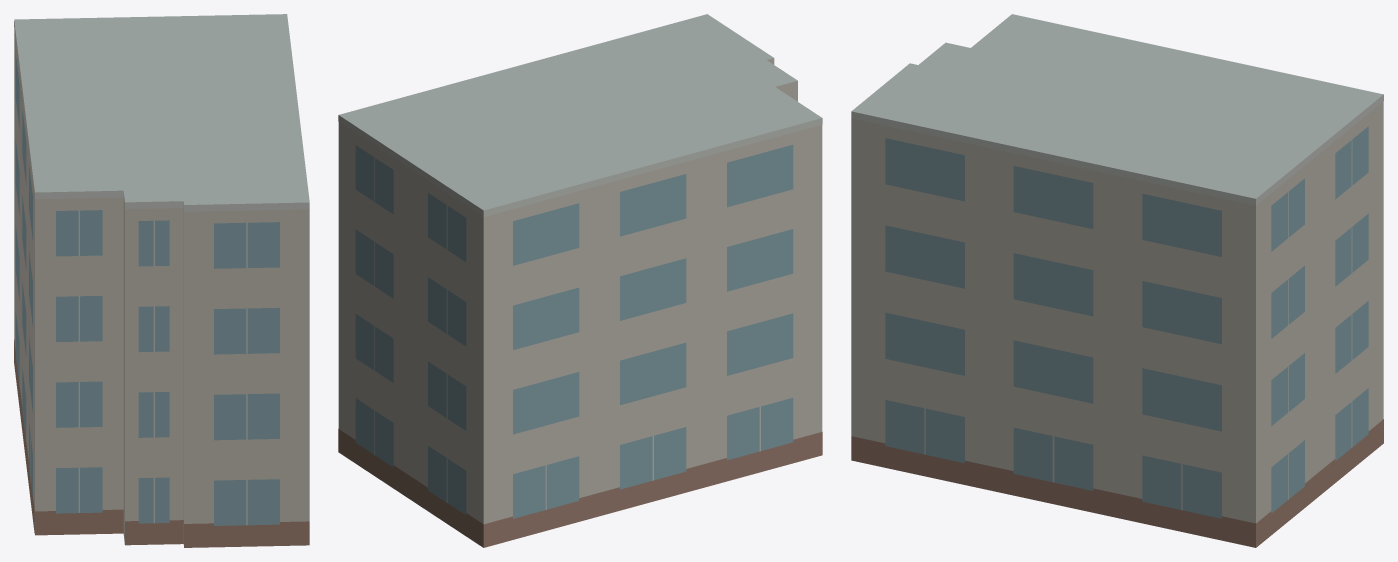
File: survey-upis-32674102.glb
The picture shows the model from 3 angles, left to right: view 1: azimuth 30°, elevation 25°; view 2: azimuth 150°, elevation 25°; view 3: azimuth 270°, elevation 25°; orthographic projection. The views are drawn at different scales.
Visible parts, largest first — view 1: survey-upis-32674102.tmp; view 2: survey-upis-32674102.tmp; view 3: survey-upis-32674102.tmp.
Part boxes in pixels (x1=…): survey-upis-32674102.tmp: x1=14, y1=14, x2=309, y2=547; survey-upis-32674102.tmp: x1=338, y1=14, x2=822, y2=547; survey-upis-32674102.tmp: x1=851, y1=14, x2=1383, y2=547.
Bounding box in the file's own units: 14.21 × 12.5 × 17.29.
